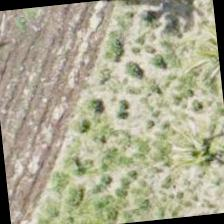Kelapa_Sawit: (156, 110, 223, 208)
